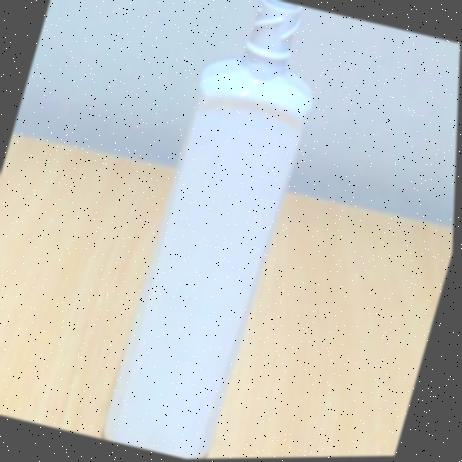bottle: (103, 0, 314, 459)
